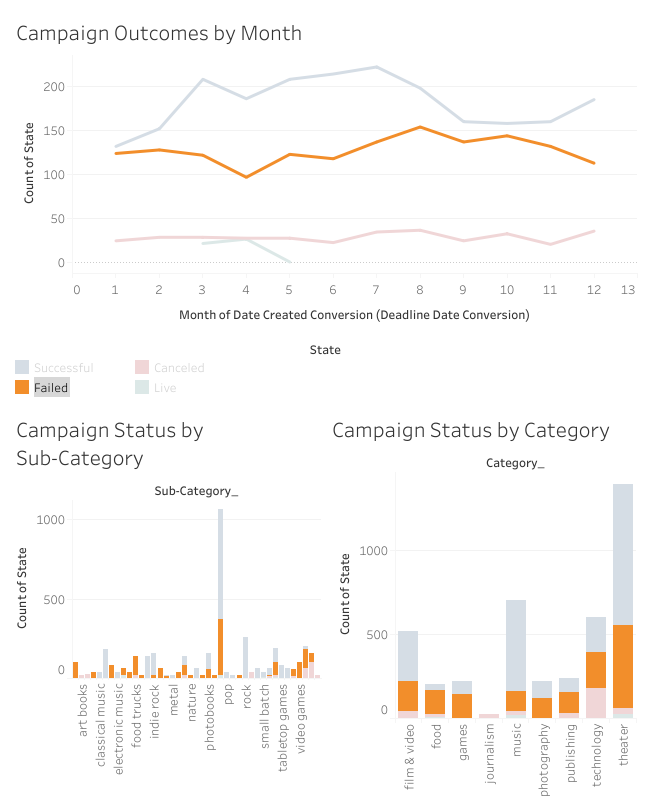

The dashboard page shown, as its layout file describes it:
{"tool":"tableau","page":{"name":"Dashboard 1","canvas":[650,860],"ordinal":0},"visuals":[{"type":"worksheet","title":"MonthlyChart","mark":"Automatic","rows":["state"],"cols":["Date Created Conversion (Deadline Date Conversion)"],"box":[8,8.1,634,346.2]},{"type":"legend","title":"MonthlyChart","param":"[federated.05cn0y81aw3rvb12q2kt71tyclse].[none:state:nk]","box":[8,354.3,634,75.7]},{"type":"worksheet","title":"SubCategoryChart","mark":"Automatic","rows":["state"],"cols":["Category and Sub-Category - Split 2"],"box":[8,430,317,421.9]},{"type":"worksheet","title":"CategoryChart","mark":"Automatic","rows":["state"],"cols":["Category and Sub-Category - Split 1"],"box":[325,430,317,421.9]}]}

Visuals, with their boxes on the page's 650x860 design canvas (x1, y1, x2, y2). These are canvas units, not pixel positions in the 648x809 screenshot, which may show the page scaled, cropped or inside an application window:
"MonthlyChart" worksheet: {"x1": 8, "y1": 8, "x2": 642, "y2": 354}
"MonthlyChart" legend: {"x1": 8, "y1": 354, "x2": 642, "y2": 430}
"SubCategoryChart" worksheet: {"x1": 8, "y1": 430, "x2": 325, "y2": 852}
"CategoryChart" worksheet: {"x1": 325, "y1": 430, "x2": 642, "y2": 852}
